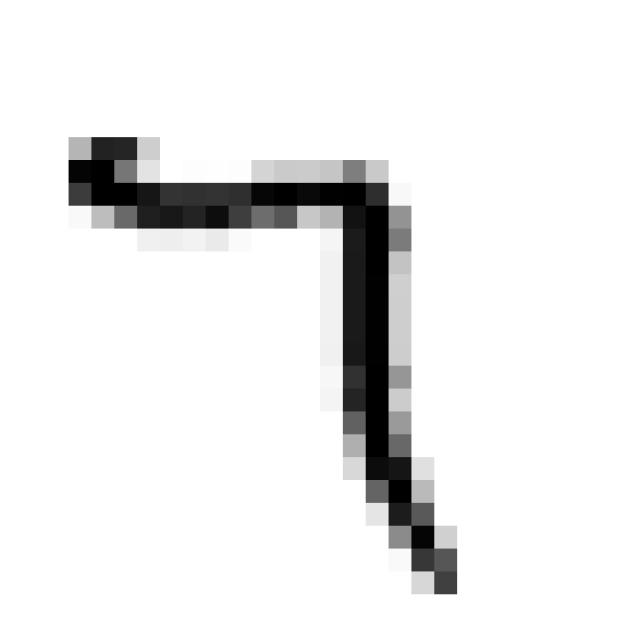6 -six-: (46, 112, 475, 612)
